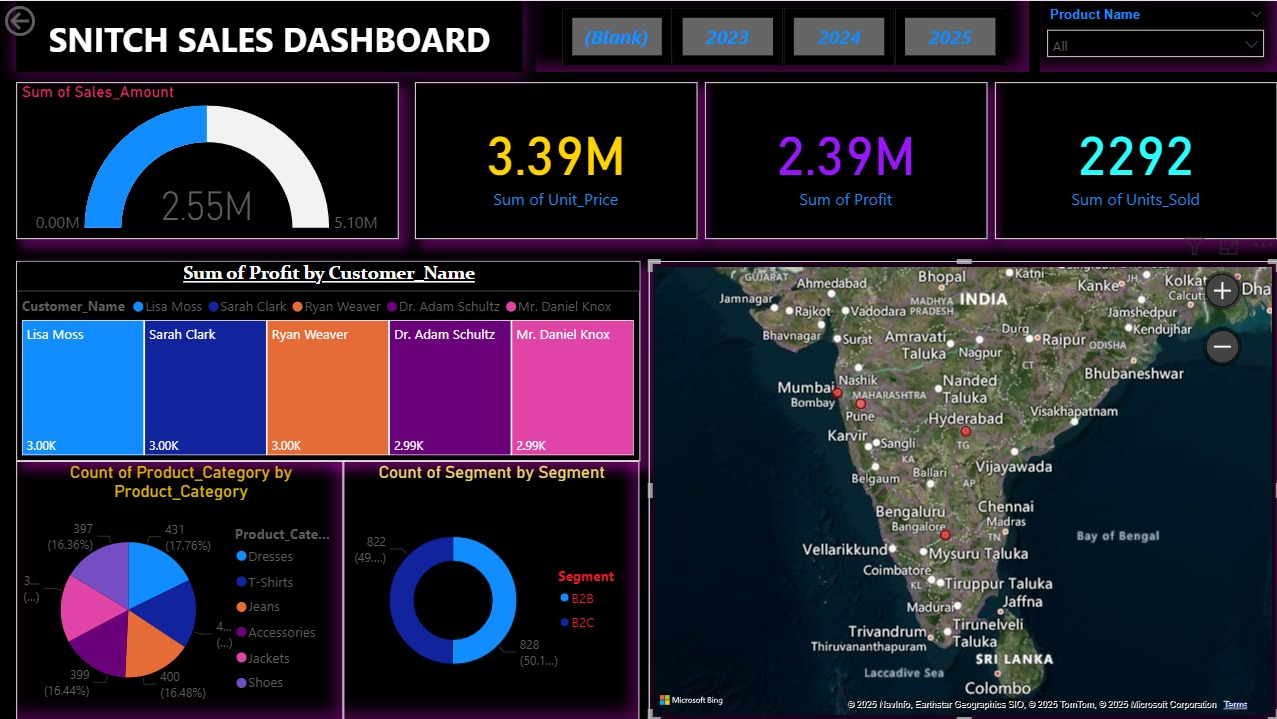

The page's visual inventory and layout, read from the dashboard file:
{"tool":"powerbi","page":{"name":"Page 1","canvas":[1280,720],"ordinal":0},"visuals":[{"type":"shape","box":[16.3,0,506.6,70.9],"z":0},{"type":"treemap","fields":{"Group":["Snitch_Fashion_Sales- Cleaned.Customer_Name"],"Values":["Snitch_Fashion_Sales- Cleaned.Profit"]},"box":[16.3,260.3,624,199.9],"z":1000},{"type":"slicer","fields":{"Values":["Snitch_Fashion_Sales- Cleaned.Order_Date.Variation.Date Hierarchy.Year"]},"box":[536.8,0,492.7,70.9],"z":2000},{"type":"slicer","fields":{"Values":["Snitch_Fashion_Sales- Cleaned.Product_Name"]},"box":[1039.9,0,238.2,70.9],"z":3000},{"type":"gauge","fields":{"Y":["Snitch_Fashion_Sales- Cleaned.Sales_Amount"]},"box":[16.3,81.3,382,156.9],"z":4000},{"type":"card","fields":{"Values":["Snitch_Fashion_Sales- Cleaned.Profit"]},"box":[705.3,81.3,282.4,156.9],"z":5000},{"type":"actionButton","box":[0,0,100,40],"z":6000},{"type":"map","fields":{"Category":["Snitch_Fashion_Sales- Cleaned.City"]},"box":[648.4,260.3,629.8,460],"z":7000},{"type":"pieChart","fields":{"Category":["Snitch_Fashion_Sales- Cleaned.Product_Category"],"Y":["Snitch_Fashion_Sales- Cleaned.Product_Category"]},"box":[16,460,328,260],"z":8000},{"type":"donutChart","fields":{"Category":["Snitch_Fashion_Sales- Cleaned.Segment"],"Y":["Snitch_Fashion_Sales- Cleaned.Segment"]},"box":[342.8,460.1,297,260.3],"z":9000},{"type":"card","fields":{"Values":["Snitch_Fashion_Sales- Cleaned.Units_Sold"]},"box":[995,81.3,282.4,156.9],"z":10000},{"type":"card","fields":{"Values":["Snitch_Fashion_Sales- Cleaned.Unit_Price"]},"box":[414.8,81.3,282.4,156.9],"z":11000}]}

Visuals, with their boxes in screenshot pixels (x1, y1, x2, y2), scaled from the page's 1280x720 canvas onto the 1277x719 screenshot:
shape: select_region(16, 0, 522, 71)
treemap - Snitch_Fashion_Sales- Cleaned.Customer_Name x Snitch_Fashion_Sales- Cleaned.Profit: select_region(16, 260, 639, 460)
slicer - Snitch_Fashion_Sales- Cleaned.Order_Date.Variation.Date Hierarchy.Year: select_region(536, 0, 1027, 71)
slicer - Snitch_Fashion_Sales- Cleaned.Product_Name: select_region(1037, 0, 1275, 71)
gauge - Snitch_Fashion_Sales- Cleaned.Sales_Amount: select_region(16, 81, 397, 238)
card - Snitch_Fashion_Sales- Cleaned.Profit: select_region(704, 81, 985, 238)
actionButton: select_region(0, 0, 100, 40)
map - Snitch_Fashion_Sales- Cleaned.City: select_region(647, 260, 1275, 718)
pieChart - Snitch_Fashion_Sales- Cleaned.Product_Category x Snitch_Fashion_Sales- Cleaned.Product_Category: select_region(16, 459, 343, 718)
donutChart - Snitch_Fashion_Sales- Cleaned.Segment x Snitch_Fashion_Sales- Cleaned.Segment: select_region(342, 459, 638, 718)
card - Snitch_Fashion_Sales- Cleaned.Units_Sold: select_region(993, 81, 1274, 238)
card - Snitch_Fashion_Sales- Cleaned.Unit_Price: select_region(414, 81, 696, 238)
